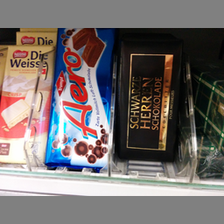chocolate: (49, 30, 112, 169), (119, 41, 183, 161), (1, 46, 54, 166)
